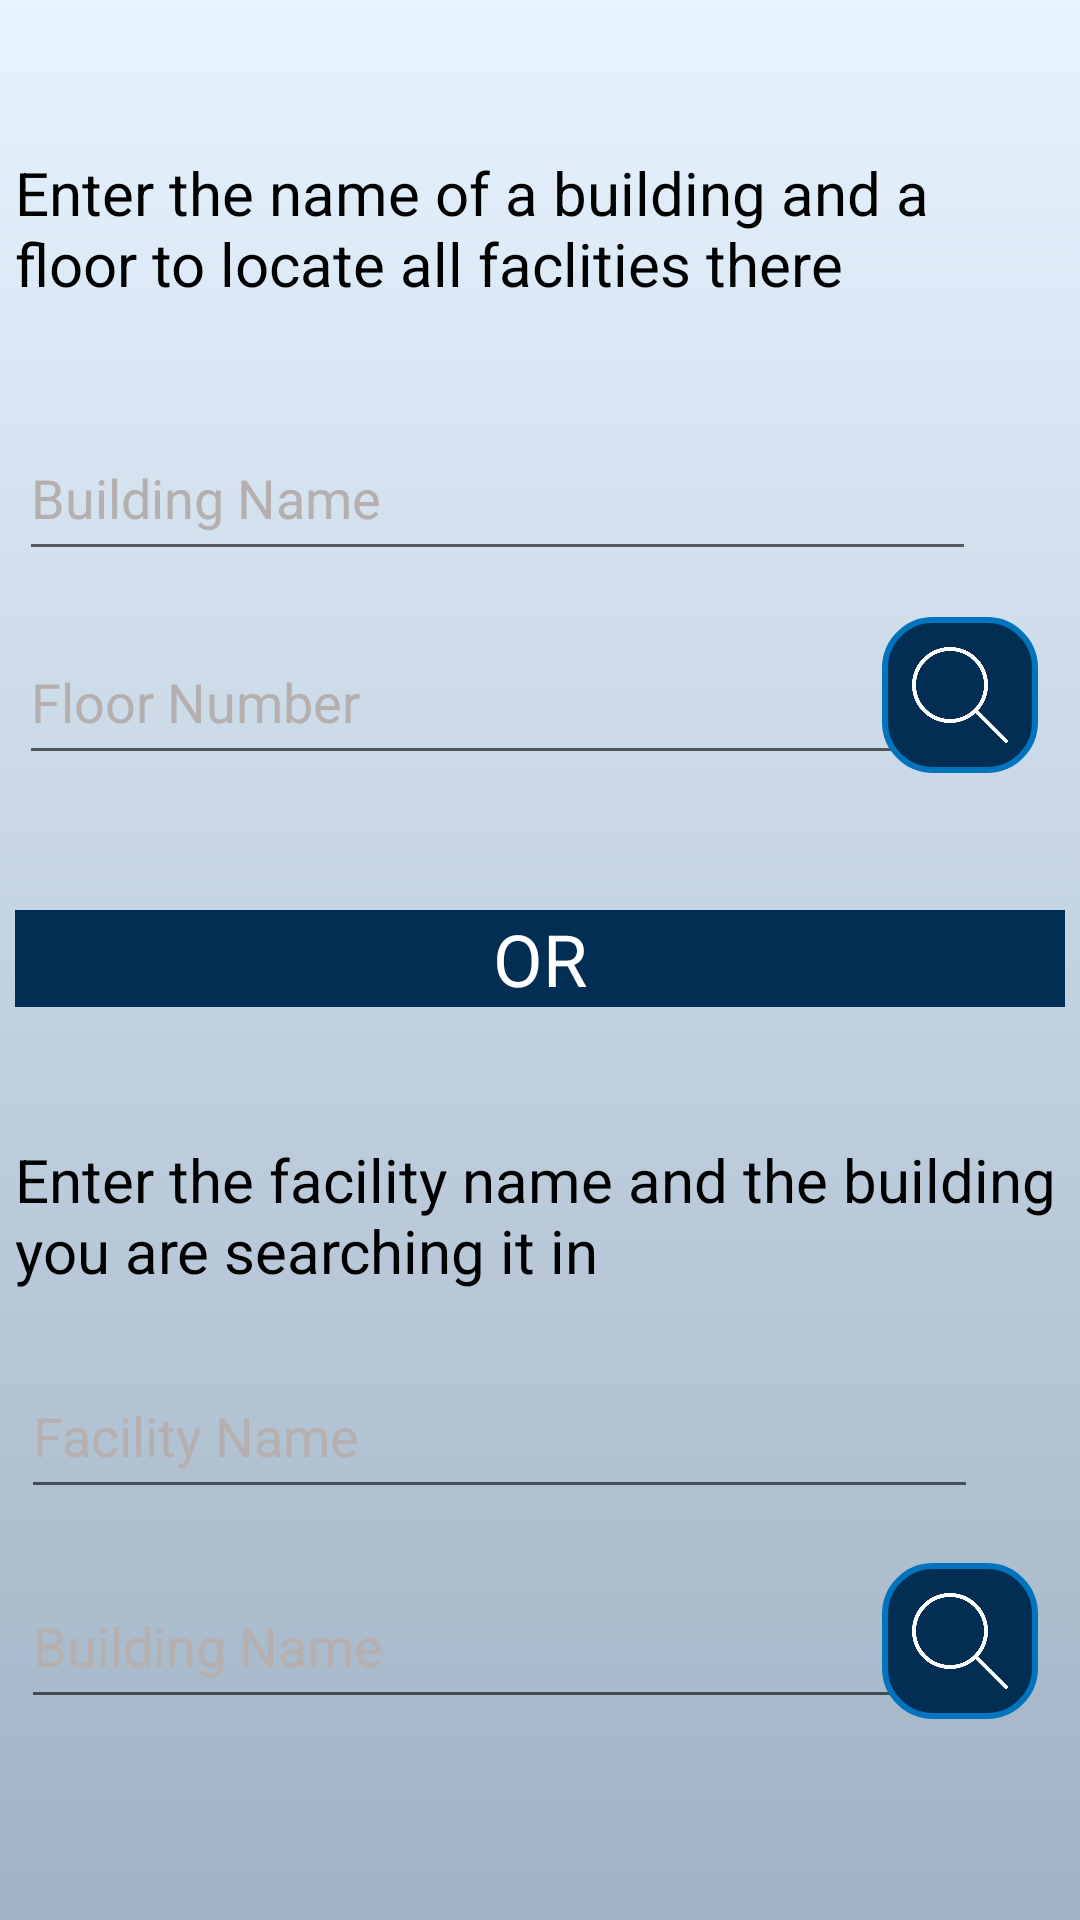

Named icons in this screenshot (1080x1920) and their bounding boxes, BBox(x1, y1, x2, y2):
search for all facilities in a building: BBox(882, 617, 1038, 773)
search for the facility in a building: BBox(882, 1563, 1038, 1719)
